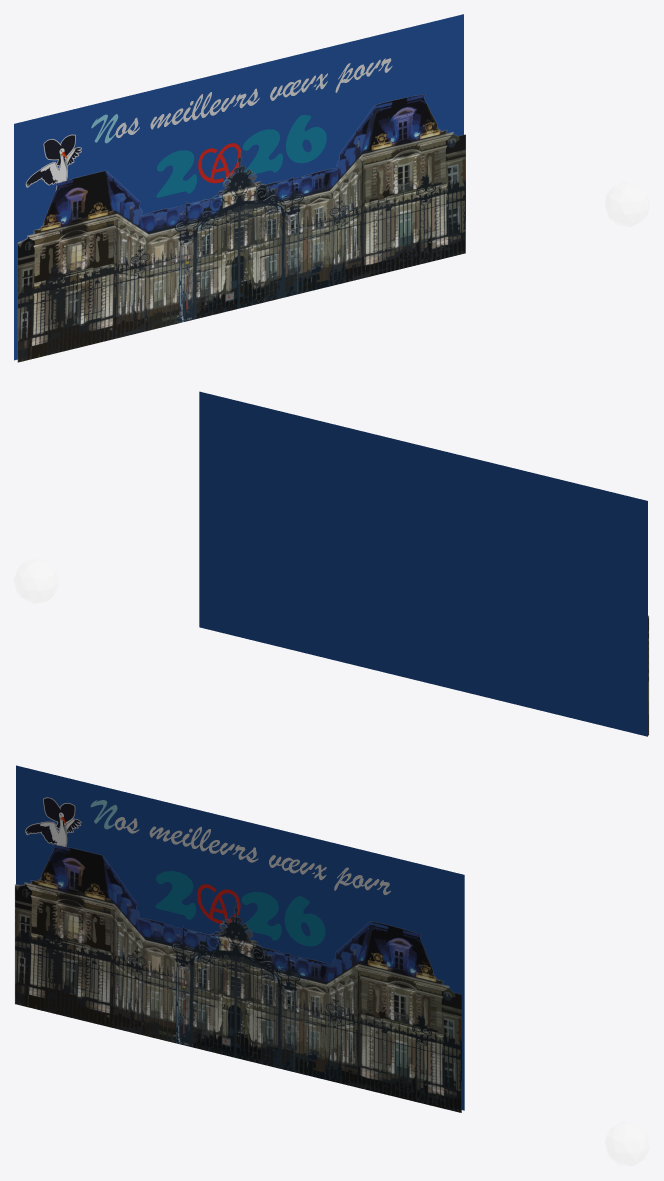
The model's file is Animation.glb.
3 views of the same model, one above another, from view 1: azimuth 30°, elevation 25°; view 2: azimuth 150°, elevation 25°; view 3: azimuth 330°, elevation 25° (orthographic).
Parts seen in each view (by area): view 1: carte, Curve, Curve.001, feux, 2cigo, 1200px-Logo-alsace-2; view 2: Curve, feux; view 3: carte, Curve, Curve.001, feux, 2cigo, 1200px-Logo-alsace-2.
Part boxes in pixels (x1,y1,x2,y2): carte: (17, 94, 465, 362); Curve: (14, 14, 463, 360); Curve.001: (156, 115, 326, 197); feux: (604, 181, 649, 227); 2cigo: (25, 134, 81, 190); 1200px-Logo-alsace-2: (198, 143, 241, 183); Curve: (199, 391, 647, 736); feux: (14, 558, 58, 603); carte: (15, 844, 461, 1112); Curve: (16, 765, 464, 1110); Curve.001: (155, 871, 325, 946); feux: (605, 1121, 649, 1166); 2cigo: (25, 797, 81, 846); 1200px-Logo-alsace-2: (197, 884, 240, 923).
Size of the model in its own units: 3.1 by 1.18 by 0.197.
Materials: 7 (3 with a texture image).
